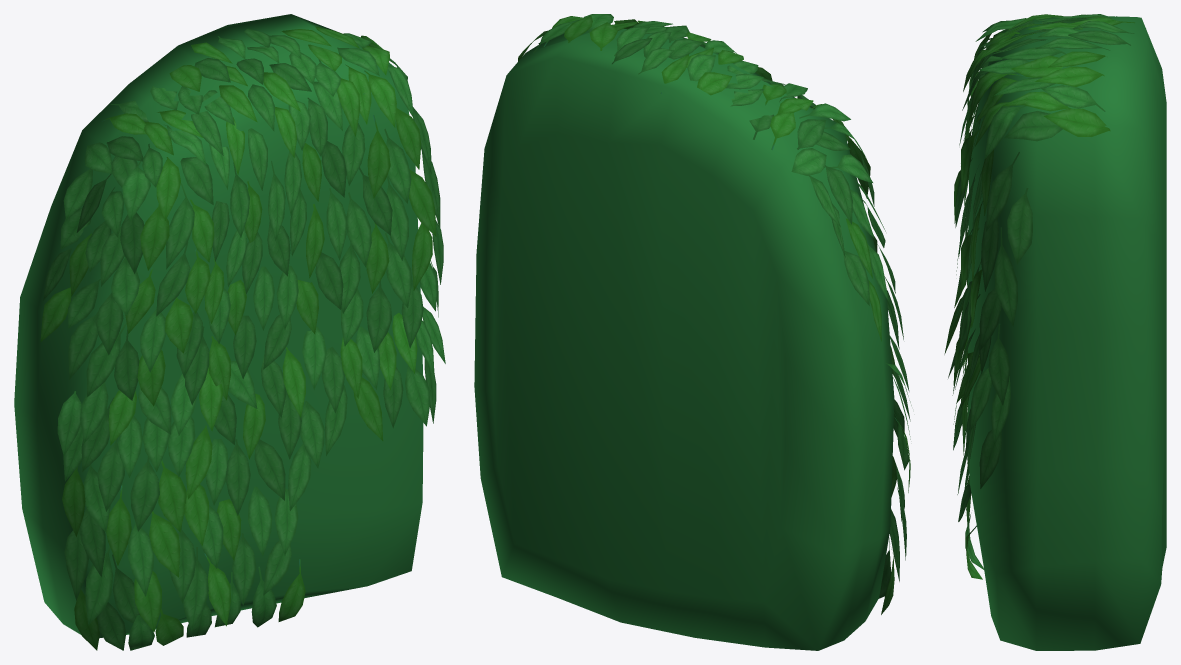
Rendered from ArbustoAltoEsquerdo.fbx.
3 renders of one model, left to right at view 1: azimuth 30°, elevation 25°; view 2: azimuth 150°, elevation 25°; view 3: azimuth 270°, elevation 25°, orthographic. The views are drawn at different scales.
Parts seen in each view (by area): view 1: ArbustoAltoEsquerdo; view 2: ArbustoAltoEsquerdo; view 3: ArbustoAltoEsquerdo.
Part boxes in pixels (<box>): ArbustoAltoEsquerdo: <box>14,14,445,650</box>; ArbustoAltoEsquerdo: <box>474,14,911,650</box>; ArbustoAltoEsquerdo: <box>944,14,1166,650</box>.
Size of the model in its own units: 1593 by 2189 by 778.
